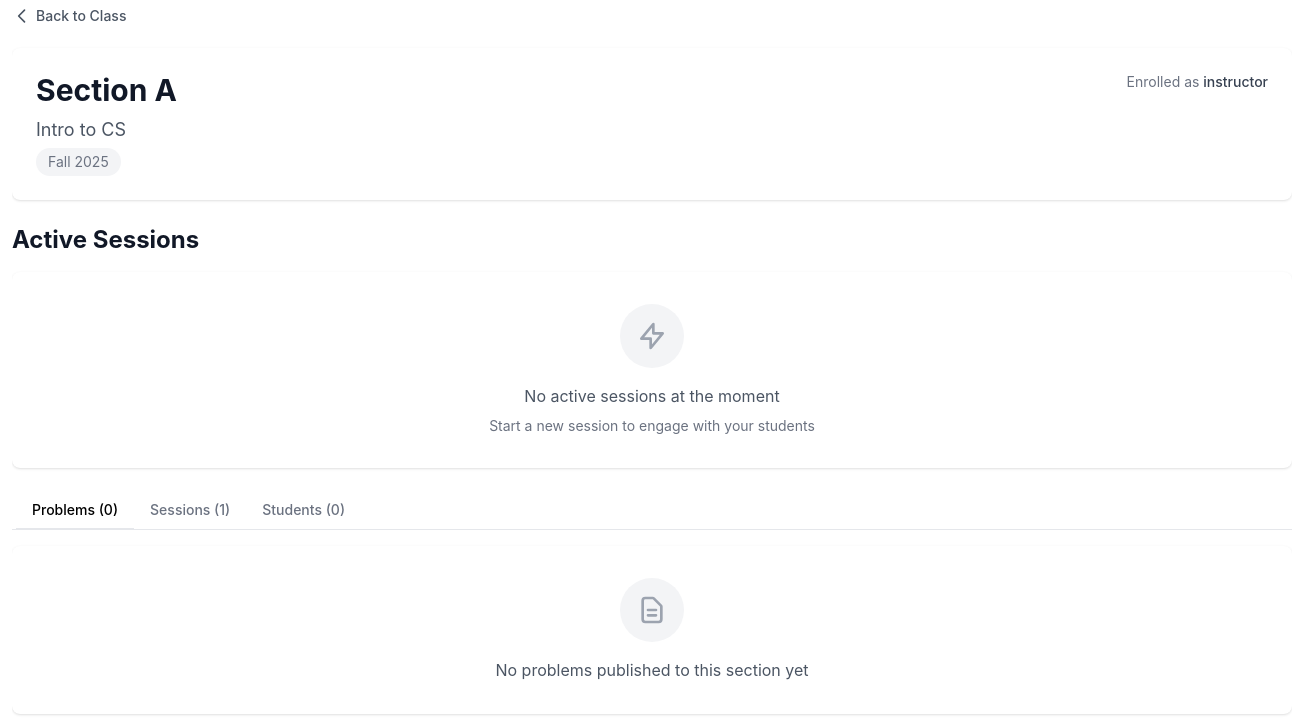
it: InstructorSectionView › past sessions › shows past session with "View" button when Sessions tab is active
The width and height of the screenshot is (1292, 720).
Click the tab "Sessions (1)" at [190, 511], box [134,492,246,530]
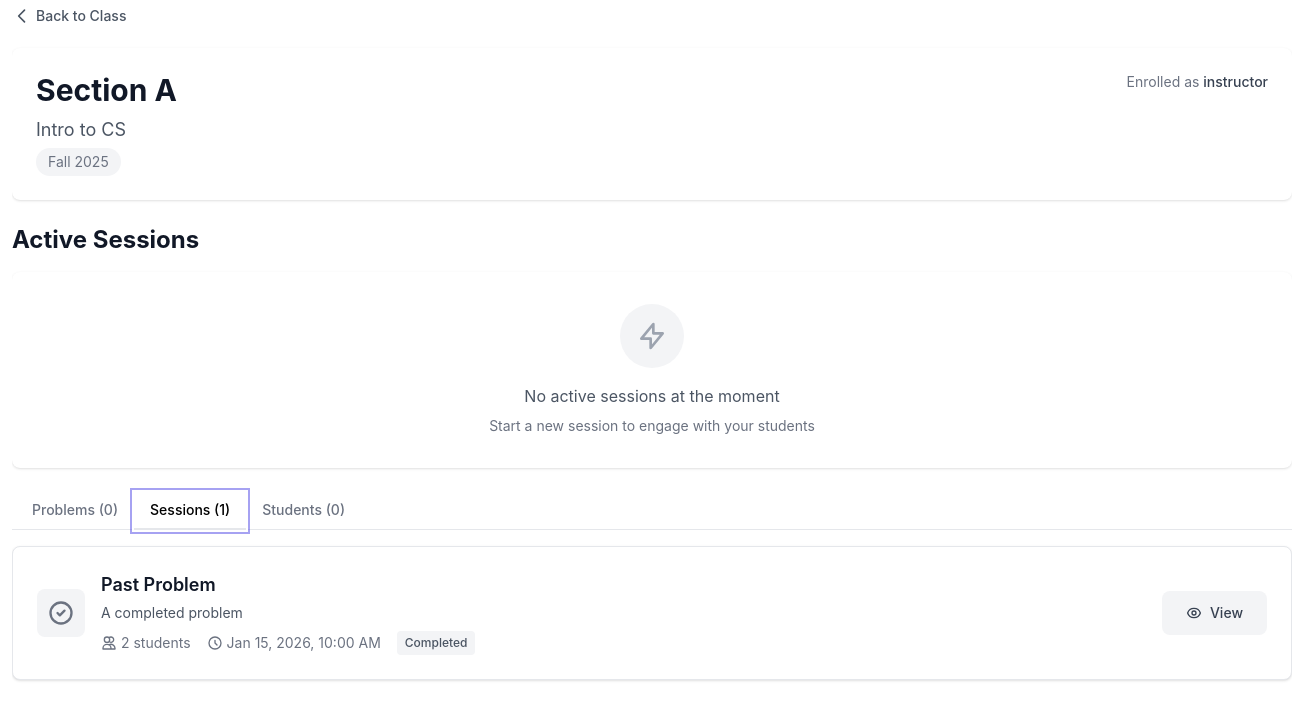
Now the heading "Past Problem" is shown, box [101,574,216,595]
Now the button "View" is shown, box [1162,591,1267,635]
